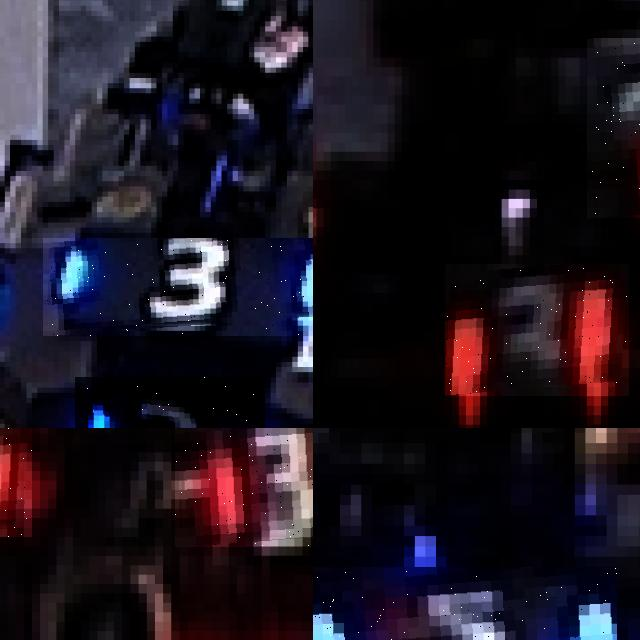B3: (42, 238, 313, 336), (75, 377, 265, 428)
B5: (313, 567, 617, 640)
R3: (445, 264, 629, 396), (175, 428, 313, 546), (587, 38, 640, 217)
